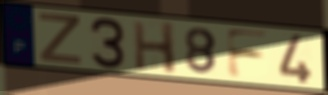3: (87, 15, 127, 71)
4: (277, 33, 314, 86)
8: (184, 26, 220, 75)
F: (224, 27, 271, 80)
H: (131, 20, 178, 76)
Z: (37, 11, 84, 67)
